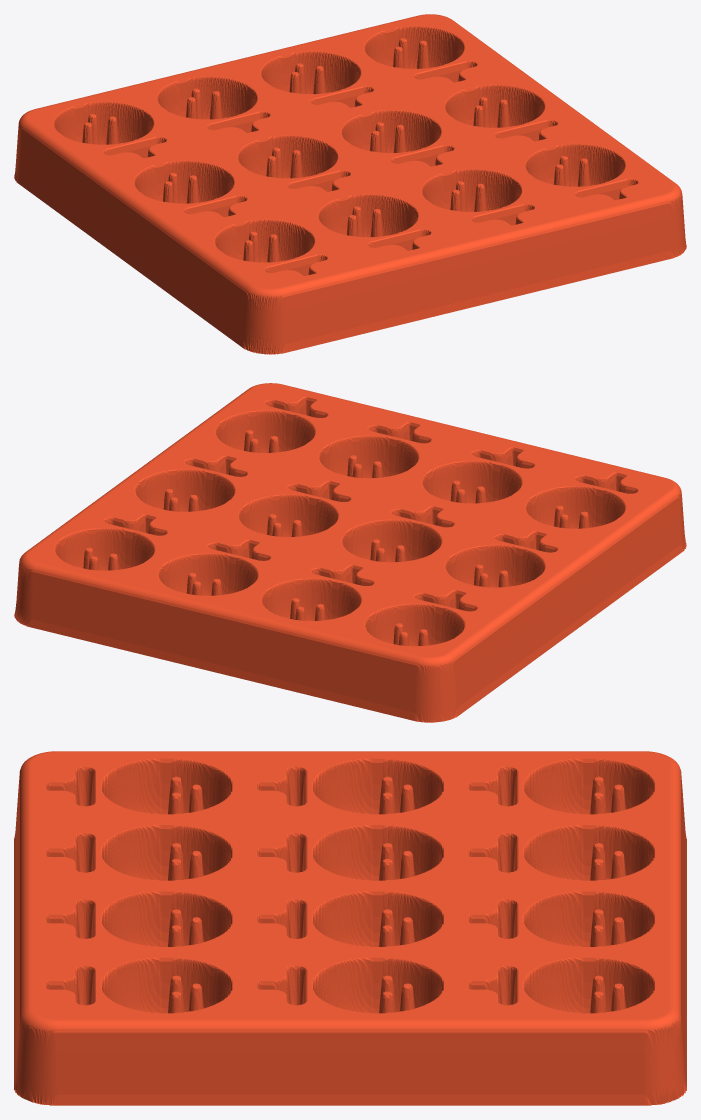
The model's file is mold.glb.
3 views of the same model, one above another, from view 1: azimuth 30°, elevation 25°; view 2: azimuth 150°, elevation 25°; view 3: azimuth 270°, elevation 25° (orthographic). The views are drawn at different scales.
Parts seen in each view (by area): view 1: geometry_0; view 2: geometry_0; view 3: geometry_0.
Part boxes in pixels (bbox=[...]): geometry_0: bbox=[14, 14, 686, 354]; geometry_0: bbox=[14, 383, 686, 722]; geometry_0: bbox=[14, 751, 686, 1105].
Size of the model in its own units: 0.1397 by 0.0182 by 0.141.
